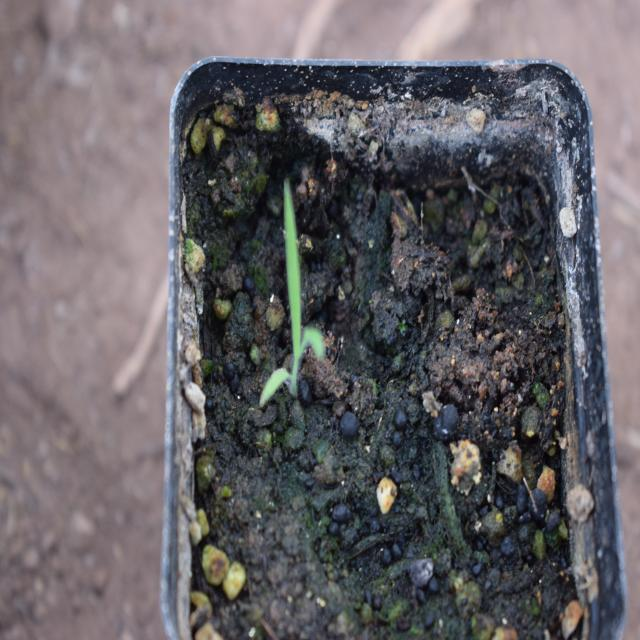crabgrass: (259, 174, 328, 408)
